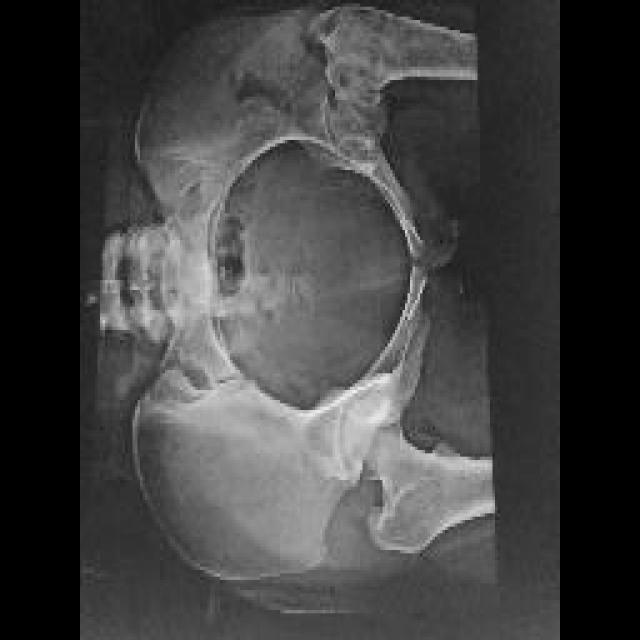bone-cancer: (306, 5, 461, 109)
